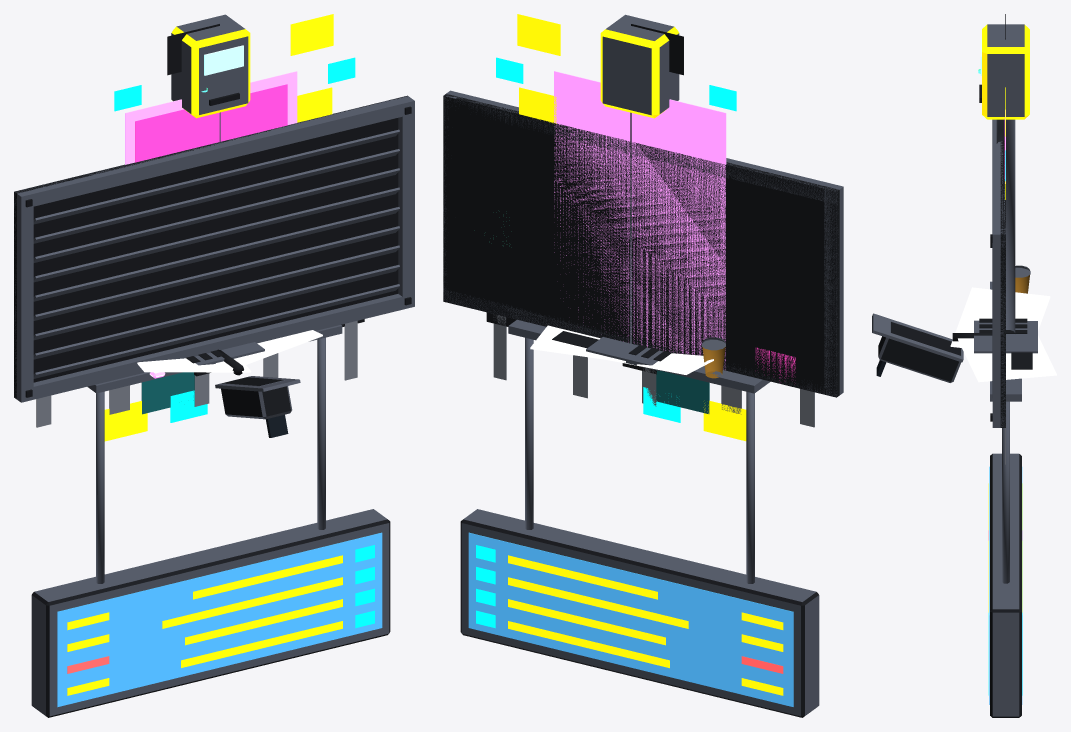
The model's file is room-detail-metro-props.glb.
3 views of the same model, side by side, from view 1: azimuth 30°, elevation 25°; view 2: azimuth 150°, elevation 25°; view 3: azimuth 270°, elevation 25° (orthographic). The views are drawn at different scales.
Parts seen in each view (by area): view 1: rd-metro-vent, rd-metro-timetable, rd-metro-poster-a, rd-metro-validator, rd-metro-poster-b, rd-metro-camera, rd-metro-litter; view 2: rd-metro-vent, rd-metro-timetable, rd-metro-poster-a, rd-metro-validator, rd-metro-poster-b, rd-metro-litter; view 3: rd-metro-timetable, rd-metro-validator, rd-metro-litter, rd-metro-vent, rd-metro-camera.
Part boxes in pixels (box(x1,y1,x2,y2)): rd-metro-vent: box(14, 95, 414, 427); rd-metro-timetable: box(31, 325, 390, 717); rd-metro-poster-a: box(125, 14, 364, 422); rd-metro-validator: box(171, 14, 264, 365); rd-metro-poster-b: box(104, 24, 332, 441); rd-metro-camera: box(194, 331, 300, 437); rd-metro-litter: box(137, 330, 322, 378); rd-metro-vent: box(443, 90, 843, 427); rd-metro-timetable: box(460, 319, 819, 717); rd-metro-poster-a: box(486, 14, 726, 422); rd-metro-validator: box(586, 14, 679, 370); rd-metro-poster-b: box(519, 24, 795, 441); rd-metro-litter: box(530, 325, 725, 378); rd-metro-timetable: box(988, 281, 1022, 717); rd-metro-validator: box(974, 24, 1037, 353); rd-metro-litter: box(950, 265, 1056, 382); rd-metro-vent: box(990, 119, 1005, 464); rd-metro-camera: box(872, 313, 992, 382).
Bounding box in the file's own units: 1.6 × 2.51 × 0.6923.
1 material, 1 textured.
